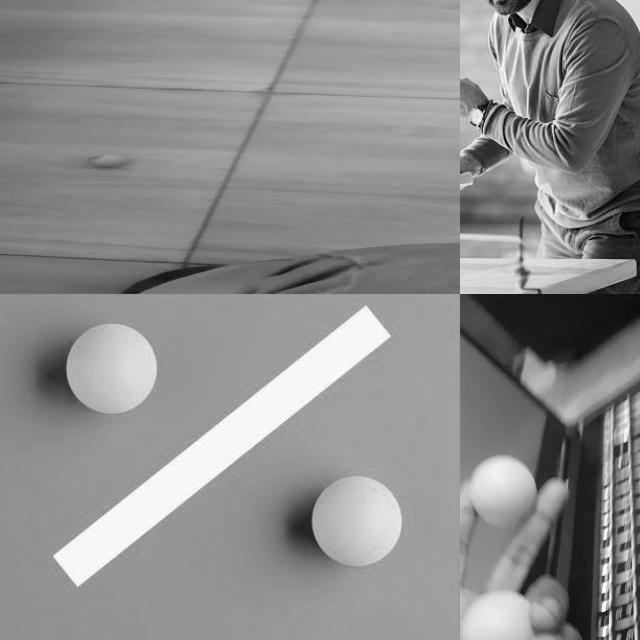ping-pong-ball: (64, 323, 158, 412), (311, 477, 401, 565), (467, 454, 537, 524), (460, 589, 536, 639), (92, 154, 128, 166)
